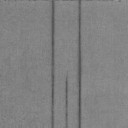surface scratch: (51, 0, 56, 128), (78, 0, 82, 128), (65, 76, 68, 128)
